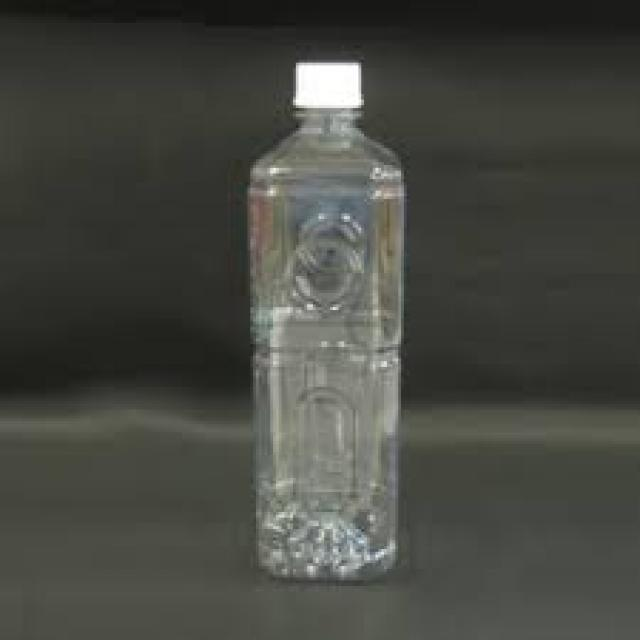Plastic: (249, 60, 404, 582)
